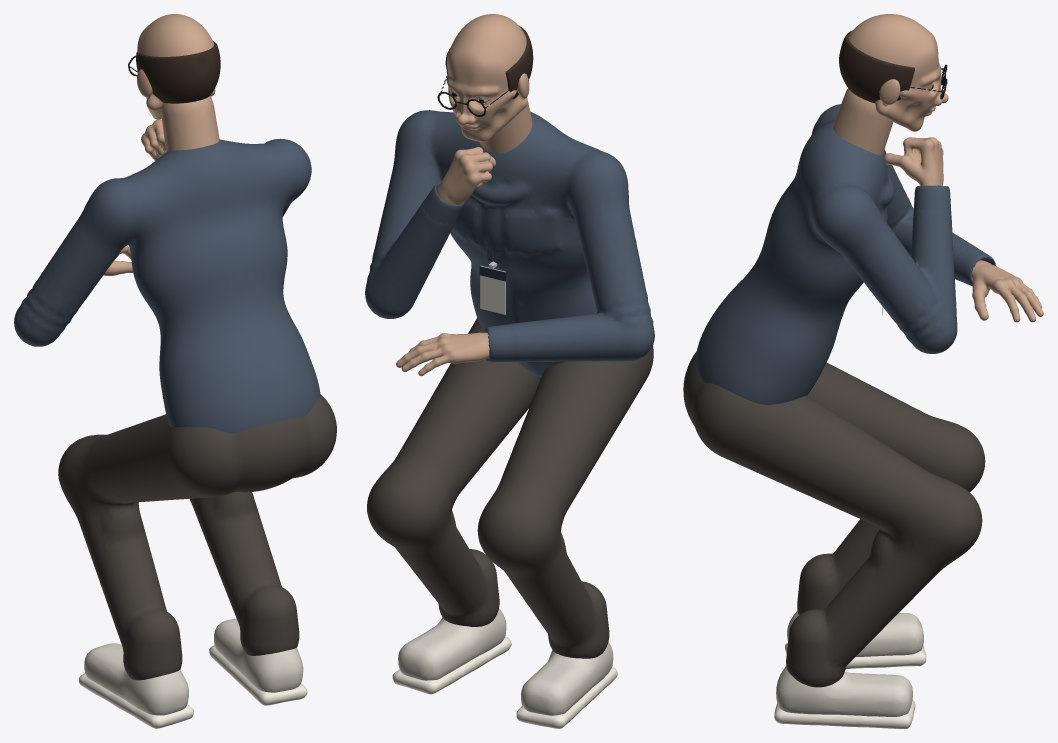
The model's file is terry.glb.
3 views of the same model, side by side, from view 1: azimuth 30°, elevation 25°; view 2: azimuth 150°, elevation 25°; view 3: azimuth 270°, elevation 25° (orthographic). The views are drawn at different scales.
Visible parts, largest first — view 1: terry_body, terry_head, terry_hands; view 2: terry_body, terry_head, terry_hands, badge; view 3: terry_body, terry_head, terry_hands.
Boxes of the visible parts, left/top/right/bottom form: terry_body: left=14, top=96, right=336, bottom=728; terry_head: left=128, top=14, right=220, bottom=119; terry_hands: left=103, top=119, right=165, bottom=275; terry_body: left=365, top=98, right=654, bottom=728; terry_head: left=437, top=14, right=533, bottom=142; terry_hands: left=396, top=147, right=521, bottom=376; badge: left=480, top=265, right=505, bottom=314; terry_body: left=683, top=88, right=985, bottom=728; terry_head: left=839, top=14, right=948, bottom=131; terry_hands: left=884, top=137, right=1043, bottom=322.
Bounding box in the file's own units: 0.5729 × 1.35 × 0.6574.
